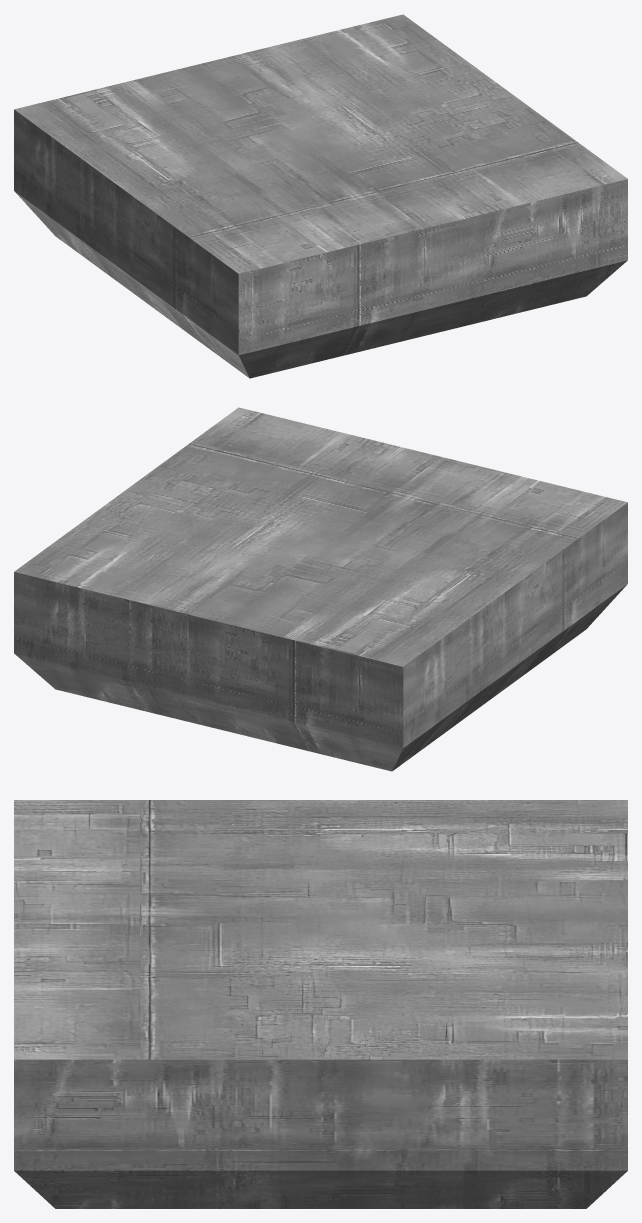
The model's file is Platform.fbx.
The picture shows the model from 3 angles, top to bottom: view 1: azimuth 30°, elevation 25°; view 2: azimuth 150°, elevation 25°; view 3: azimuth 270°, elevation 25°; orthographic projection. The views are drawn at different scales.
Parts seen in each view (by area): view 1: Platform; view 2: Platform; view 3: Platform.
Boxes of the visible parts, <box> form: Platform: <box>14,14,627,378</box>; Platform: <box>14,407,627,771</box>; Platform: <box>14,800,627,1208</box>.
Size of the model in its own units: 1000 by 300 by 1000.
